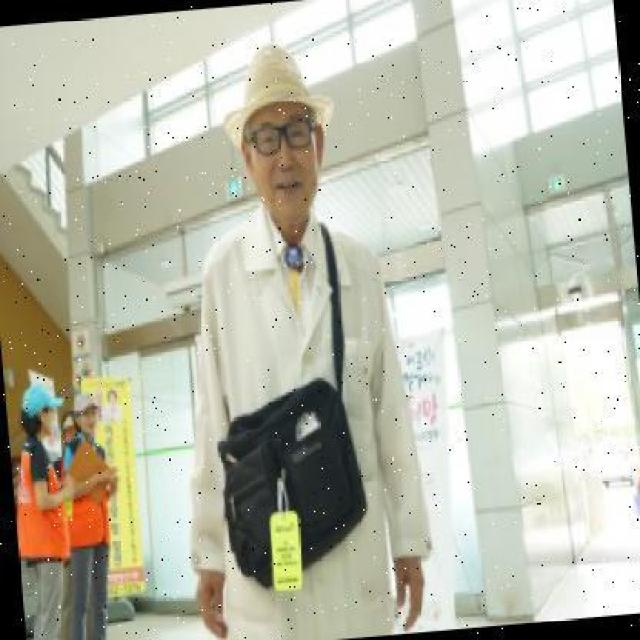Person: (146, 43, 443, 639), (49, 392, 132, 638), (9, 383, 85, 639)
